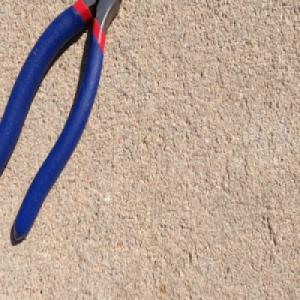Pliers: (0, 0, 121, 242)
